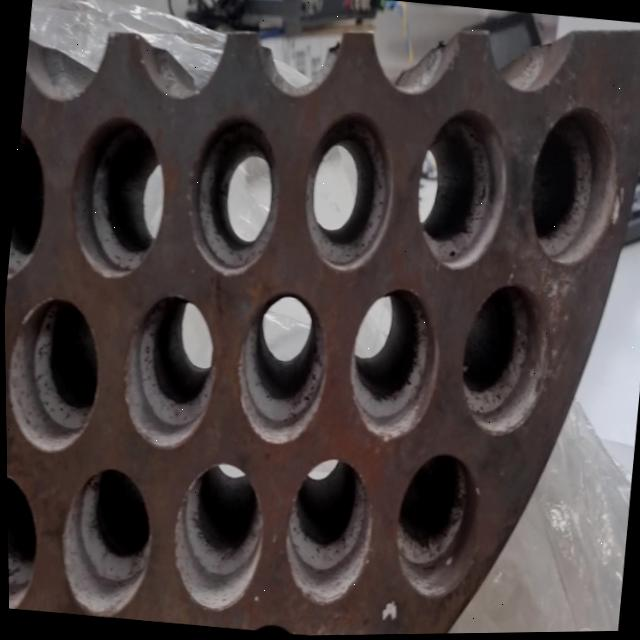Hole: (60, 112, 173, 285), (295, 105, 403, 278), (522, 102, 630, 272), (114, 288, 223, 455), (182, 110, 288, 281), (408, 107, 515, 276), (228, 288, 335, 451), (340, 283, 446, 447), (3, 292, 107, 458), (164, 458, 269, 617), (453, 278, 555, 441), (52, 463, 157, 621), (276, 454, 379, 611), (386, 449, 485, 604), (3, 122, 54, 284), (5, 469, 44, 610)
